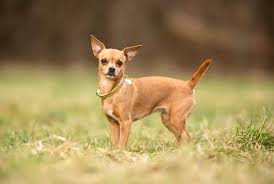chihuahua: (75, 26, 226, 152)
